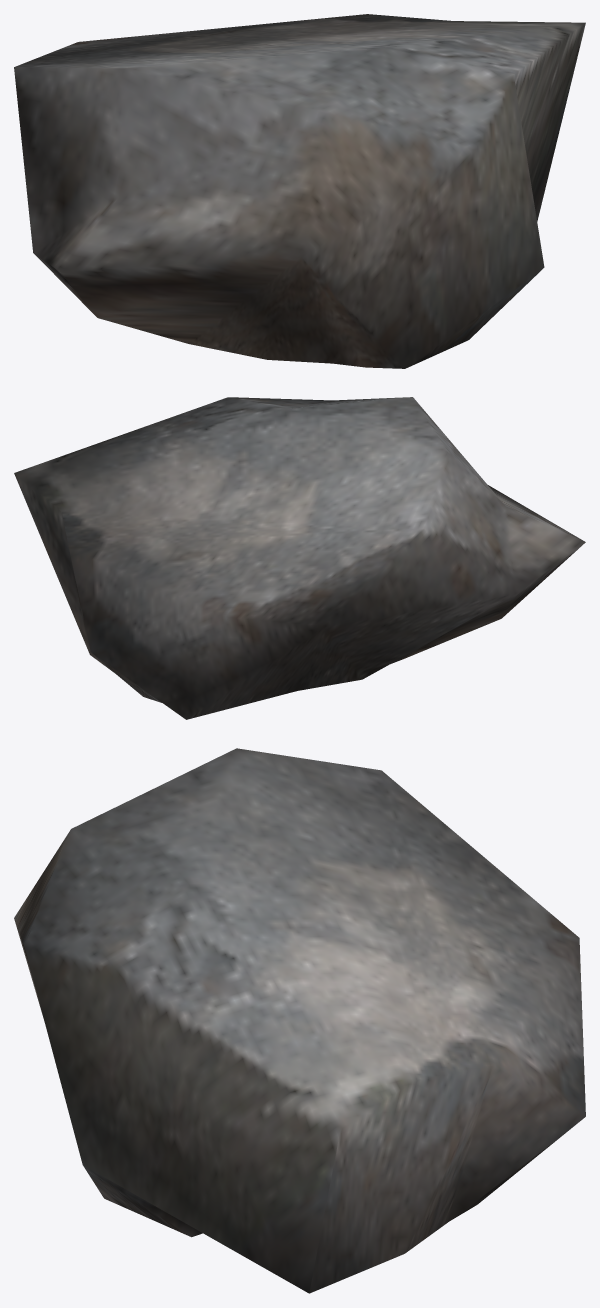
Rendered from forest_rock_08.glb.
3 renders of one model, top to bottom at view 1: azimuth 30°, elevation 25°; view 2: azimuth 150°, elevation 25°; view 3: azimuth 270°, elevation 25°, orthographic. The views are drawn at different scales.
Visible parts, largest first — view 1: Rocks.007_Rocks_0; view 2: Rocks.007_Rocks_0; view 3: Rocks.007_Rocks_0.
Part boxes in pixels (left/top/right/bottom): Rocks.007_Rocks_0: left=14, top=14, right=585, bottom=368; Rocks.007_Rocks_0: left=14, top=397, right=585, bottom=719; Rocks.007_Rocks_0: left=14, top=748, right=585, bottom=1293.
Size of the model in its own units: 1.19 by 0.55 by 0.8899.
1 material, 1 textured.
